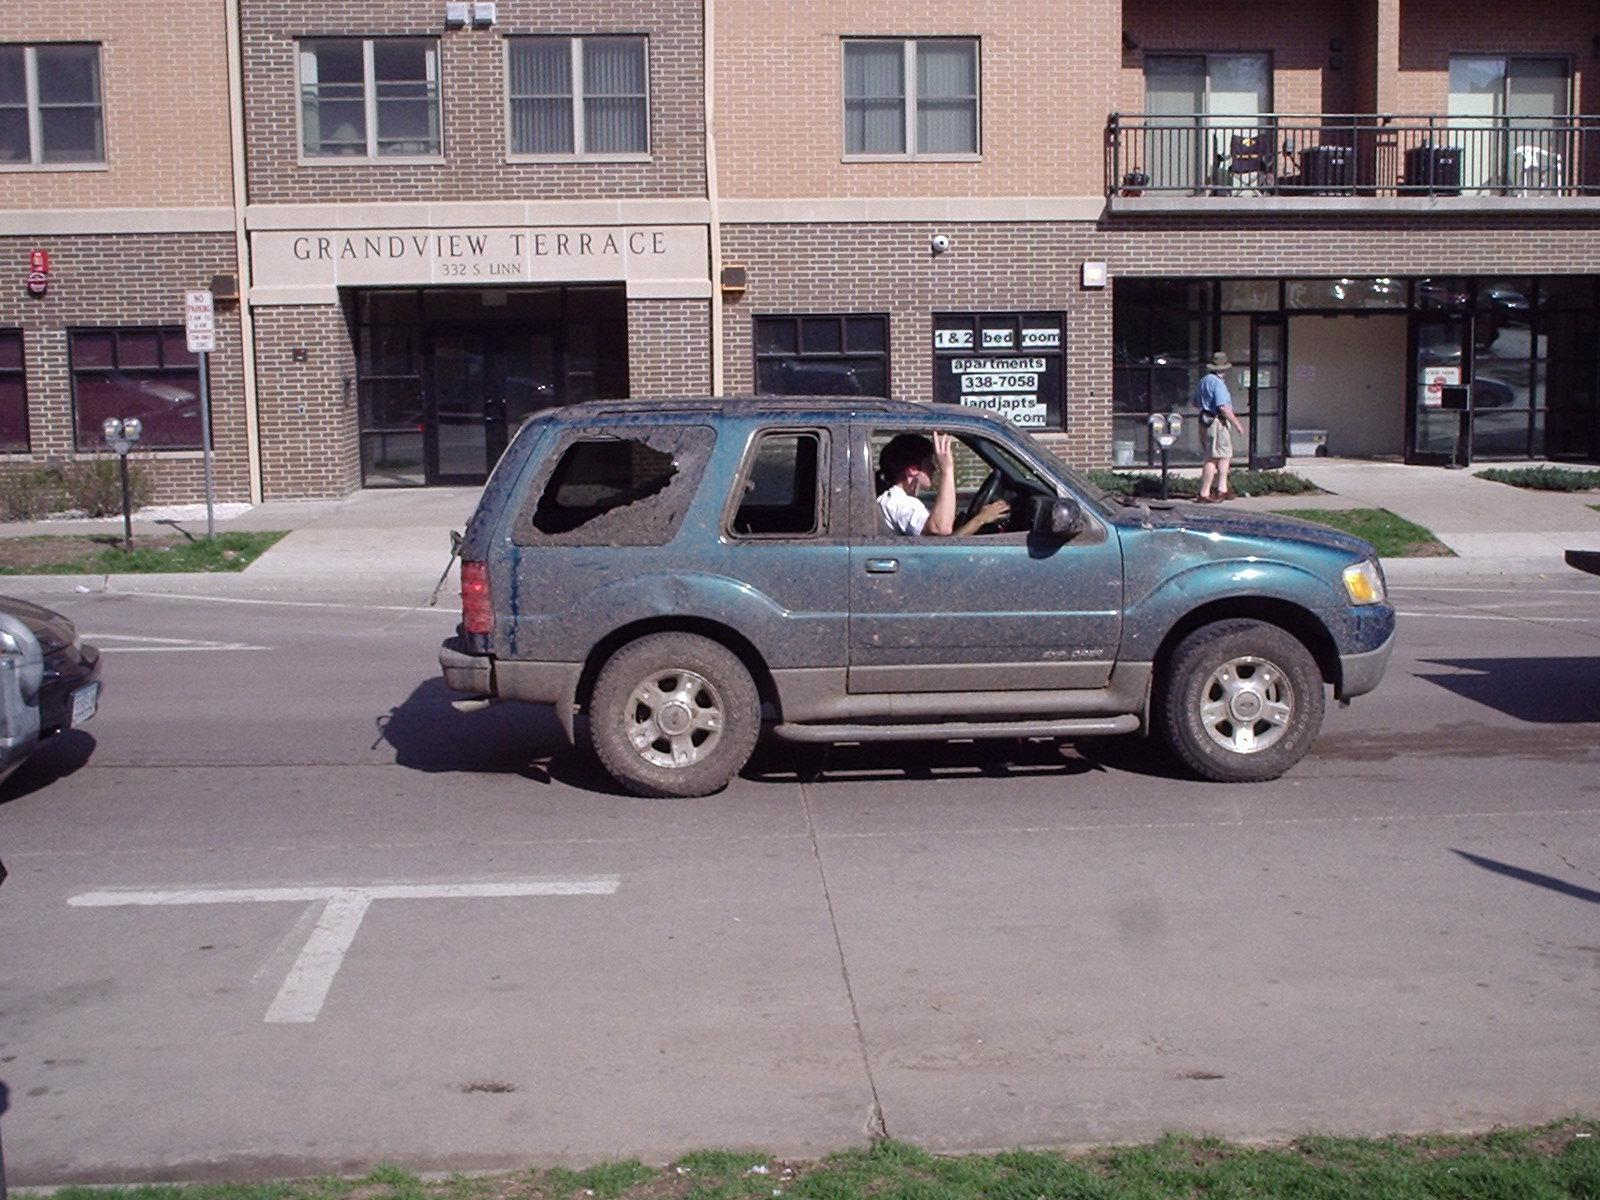fender-dent: (1121, 529, 1346, 645)
